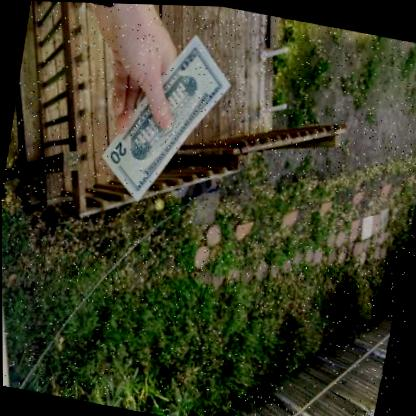twenty-back: (102, 33, 230, 202)
